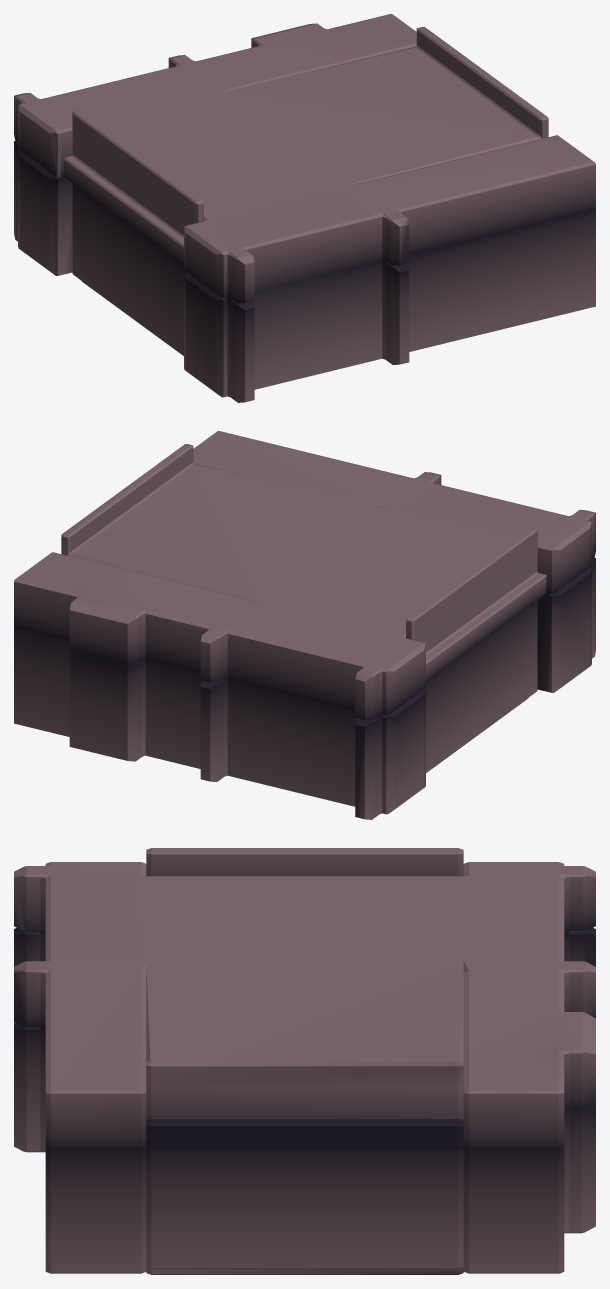
Rendered from bridge4.fbx.
3 views of the same model, one above another, from view 1: azimuth 30°, elevation 25°; view 2: azimuth 150°, elevation 25°; view 3: azimuth 270°, elevation 25° (orthographic). The views are drawn at different scales.
Visible parts, largest first — view 1: bridge4; view 2: bridge4; view 3: bridge4.
Part boxes in pixels (x1,y1,x2,y2): bridge4: [14, 14, 595, 402]; bridge4: [14, 431, 595, 819]; bridge4: [14, 848, 595, 1274].
Bounding box in the file's own units: 192 × 83.3 × 203.
